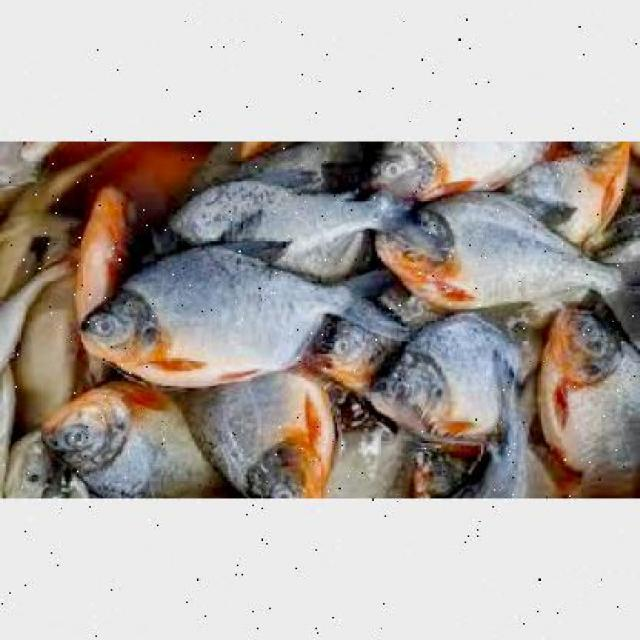ikan-pacu: (83, 250, 344, 375), (377, 193, 608, 304), (39, 381, 212, 496), (539, 307, 639, 493), (374, 305, 518, 433), (204, 373, 340, 498), (366, 139, 554, 196)
